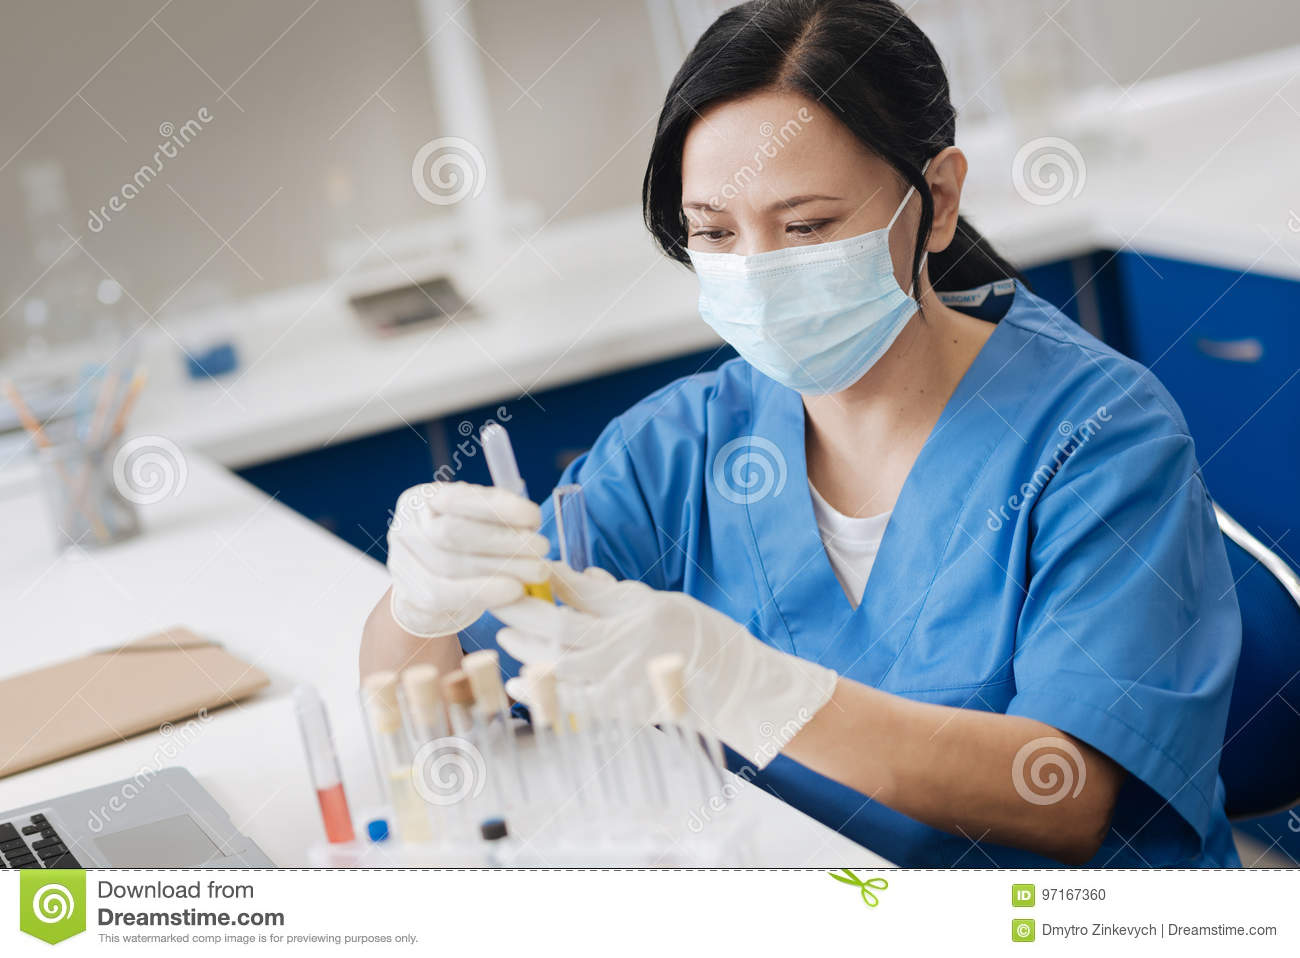mask: (666, 239, 926, 402)
